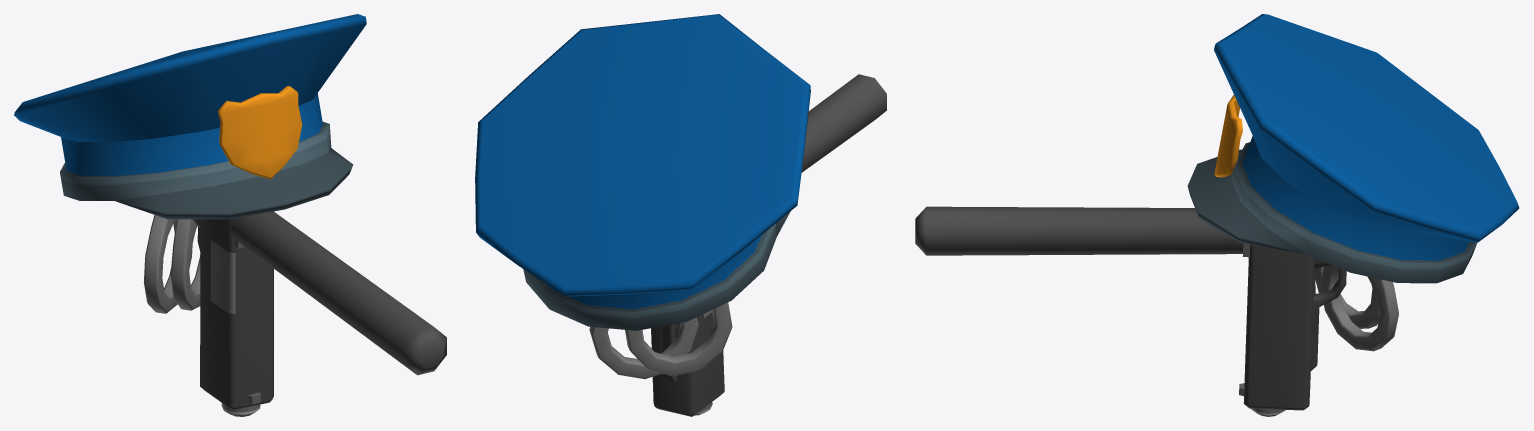
Rendered from itemsPolice.fbx.
The picture shows the model from 3 angles, left to right: view 1: azimuth 30°, elevation 25°; view 2: azimuth 150°, elevation 25°; view 3: azimuth 270°, elevation 25°; orthographic projection. The views are drawn at different scales.
Visible parts, largest first — view 1: PoliceHat, PolicePistol, PoliceArgument, PoliceBracers; view 2: PoliceHat, PoliceBracers, PoliceArgument, PolicePistol; view 3: PoliceHat, PoliceArgument, PolicePistol, PoliceBracers.
Part boxes in pixels (x1=…): PoliceHat: x1=14, y1=14, x2=366, y2=219; PolicePistol: x1=193, y1=219, x2=273, y2=416; PoliceArgument: x1=230, y1=211, x2=446, y2=375; PoliceBracers: x1=143, y1=215, x2=200, y2=313; PoliceHat: x1=475, y1=14, x2=810, y2=330; PoliceBracers: x1=589, y1=302, x2=732, y2=379; PoliceArgument: x1=674, y1=74, x2=886, y2=329; PolicePistol: x1=651, y1=310, x2=724, y2=416; PoliceHat: x1=1187, y1=14, x2=1519, y2=283; PoliceArgument: x1=915, y1=206, x2=1315, y2=318; PolicePistol: x1=1239, y1=243, x2=1346, y2=416; PoliceBracers: x1=1315, y1=265, x2=1398, y2=351.
Bounding box in the file's own units: 133 × 150 × 222.
